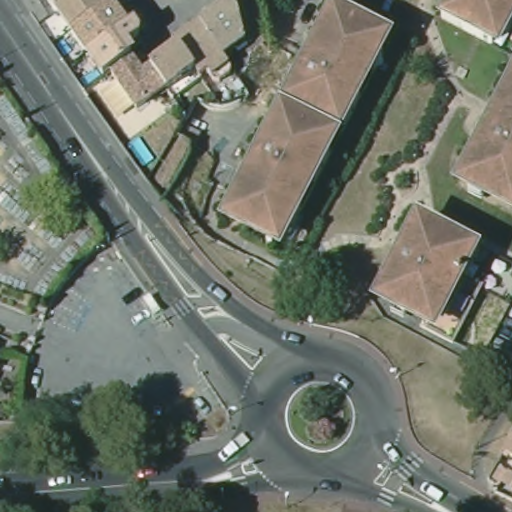pool: (127, 133, 156, 168), (81, 67, 101, 85), (57, 36, 74, 57)
